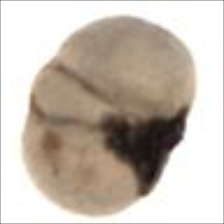L5: (100, 105, 192, 199), (27, 59, 113, 128)
L6: (18, 14, 199, 219)
